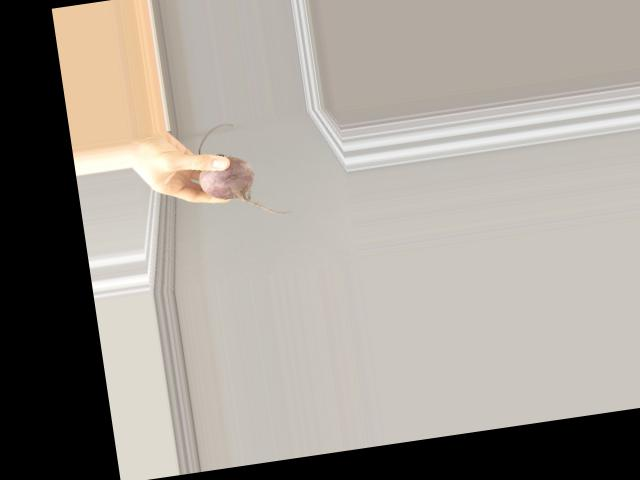beet: (192, 115, 293, 224)
